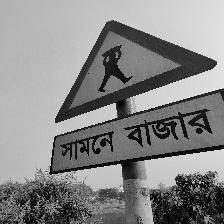Market-in-front: (49, 20, 224, 176)
